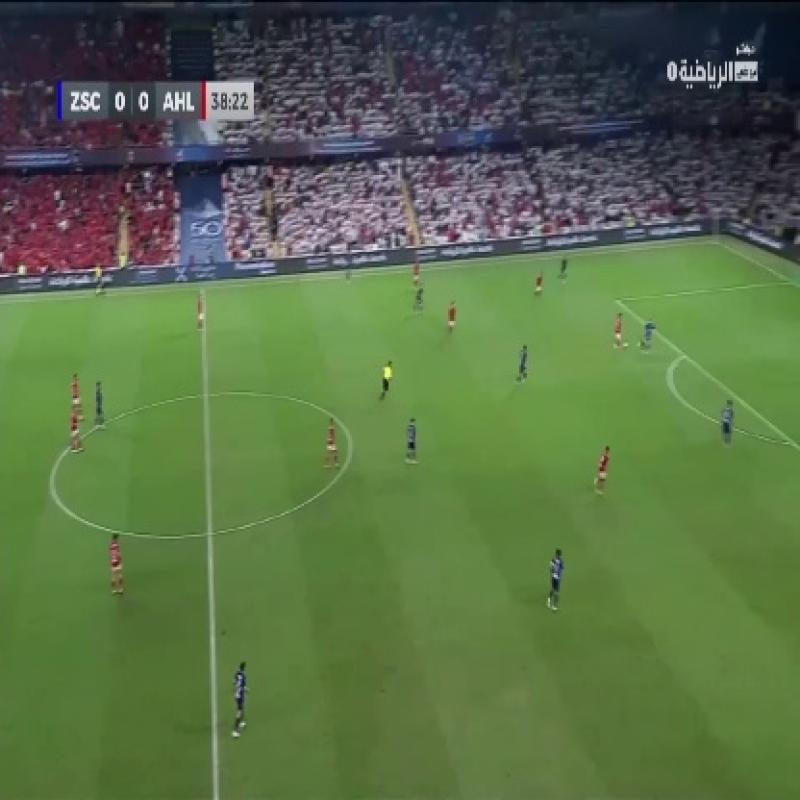1: (704, 232, 723, 248)
10: (674, 344, 690, 364)
11: (782, 431, 798, 452)
13: (191, 281, 215, 299)
14: (192, 378, 220, 410)
15: (194, 514, 221, 548)
2: (782, 273, 798, 289)
9: (608, 288, 624, 308)
c: (34, 469, 74, 517), (340, 423, 362, 462)
